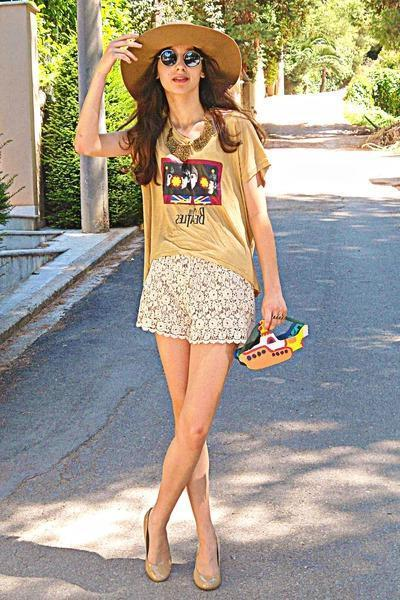short sleeve shirt: (129, 108, 275, 288)
skirt: (128, 250, 263, 348)
